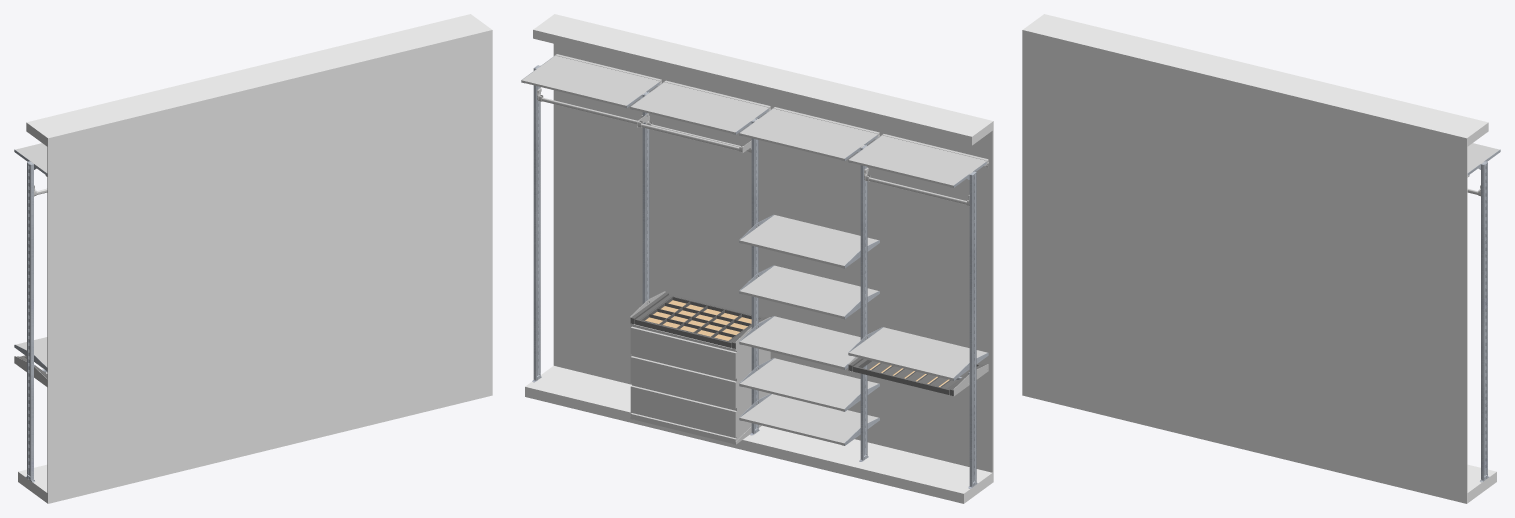
The picture shows the model from 3 angles, left to right: view 1: azimuth 30°, elevation 25°; view 2: azimuth 150°, elevation 25°; view 3: azimuth 330°, elevation 25°; orthographic projection.
Parts seen in each view (by area): view 1: Geom3D (×2), Geom3D_Geom3D_组件#16_Defintion#8_Geom3D_组件#16; view 2: Geom3D (×9), Geom3D_Geom3D_组件#4_柜子 copy 002_Defintion#2_Geom3D_组件#4_柜子 co, Geom3D_Geom3D_组件#16_Defintion#8_Geom3D_组件#16, Geom3D_Geom3D_组件#16_Defintion#9_Geom3D_组件#16, Geom3D_Geom3D_组件#16_Defintion29_Geom3D_组件#16, Geom3D_Geom3D_组件#16_Defintion#10_Geom3D_组件#16, Geom3D_Geom3D_组件#15_Defintion#8_Geom3D_组件#15, Geom3D_Geom3D_组件#15_Defintion21_Geom3D_组件#15, Geom3D_Geom3D_组件#15_Defintion31_Geom3D_组件#15, Geom3D_Geom3D_组件#15_Defintion#9_Geom3D_组件#15, Geom3D_Geom3D_组件#15_Defintion25_Geom3D_组件#15, Geom3D_Geom3D_组件#15_Defintion23_Geom3D_组件#15 (+2 smaller); view 3: Geom3D (×2), Geom3D_Geom3D_组件#16_Defintion29_Geom3D_组件#16.
Boxes of the visible parts, box(x1,y1,x2,y2) form: Geom3D (×2): box(18, 14, 492, 503); Geom3D_Geom3D_组件#16_Defintion#8_Geom3D_组件#16: box(15, 143, 47, 176); Geom3D (×9): box(525, 14, 993, 503); Geom3D_Geom3D_组件#4_柜子 copy 002_Defintion#2_Geom3D_组件#4_柜子 co: box(630, 324, 770, 444); Geom3D_Geom3D_组件#16_Defintion#8_Geom3D_组件#16: box(848, 134, 988, 187); Geom3D_Geom3D_组件#16_Defintion#9_Geom3D_组件#16: box(739, 107, 879, 160); Geom3D_Geom3D_组件#16_Defintion29_Geom3D_组件#16: box(521, 54, 661, 107); Geom3D_Geom3D_组件#16_Defintion#10_Geom3D_组件#16: box(630, 80, 770, 134); Geom3D_Geom3D_组件#15_Defintion#8_Geom3D_组件#15: box(848, 327, 987, 380); Geom3D_Geom3D_组件#15_Defintion21_Geom3D_组件#15: box(739, 358, 878, 411); Geom3D_Geom3D_组件#15_Defintion31_Geom3D_组件#15: box(739, 265, 878, 318); Geom3D_Geom3D_组件#15_Defintion#9_Geom3D_组件#15: box(739, 215, 878, 268); Geom3D_Geom3D_组件#15_Defintion25_Geom3D_组件#15: box(739, 316, 860, 369); Geom3D_Geom3D_组件#15_Defintion23_Geom3D_组件#15: box(739, 394, 878, 445); Geom3D (×2): box(1022, 14, 1496, 503); Geom3D_Geom3D_组件#16_Defintion29_Geom3D_组件#16: box(1467, 143, 1499, 177).
Size of the model in its own units: 3.63 by 2.85 by 0.5216.
Materials: 4 (1 with a texture image).
